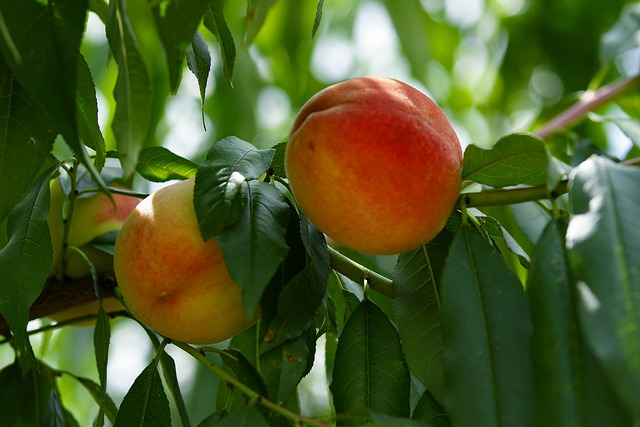peach: (282, 74, 462, 258)
